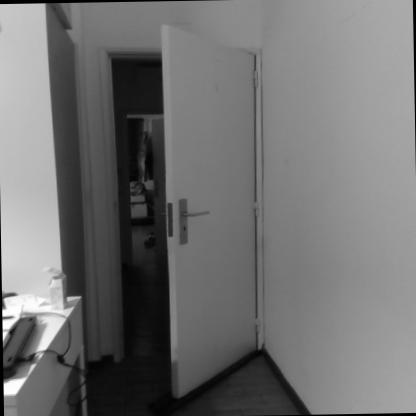semi: (89, 9, 266, 413)
